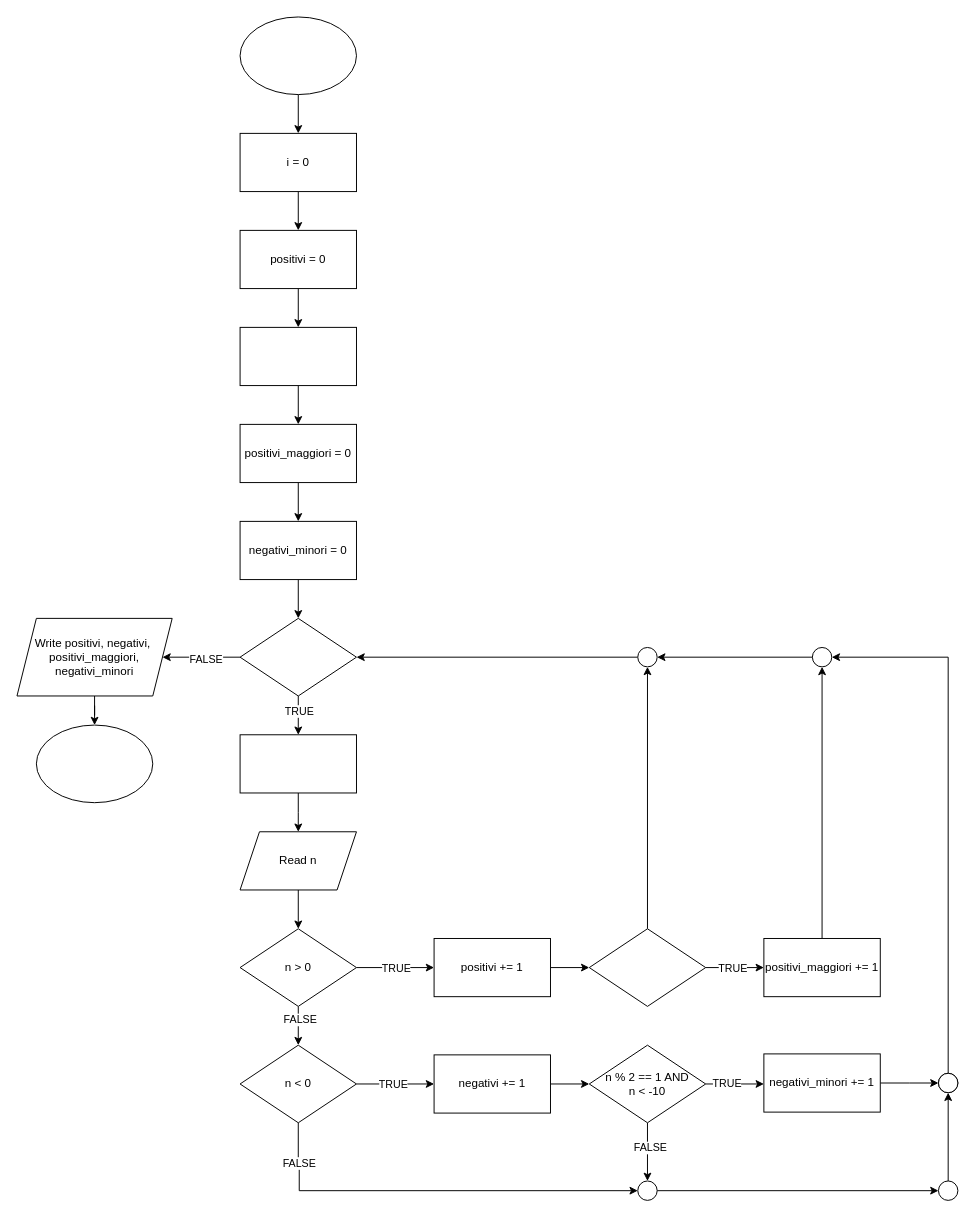
Some shapes in this 975 by 1217 pixel diagram are drawn without their labels. The centre of each missing label's shape, as x and y in pixels:
"END" goes at pixel 94 763.
"i += 1" goes at pixel 297 763.
"i < 10" goes at pixel 297 656.
"n % 2 == 0 AND n > 20" goes at pixel 647 967.
"negativi = 0" goes at pixel 297 356.
"START" goes at pixel 297 55.
